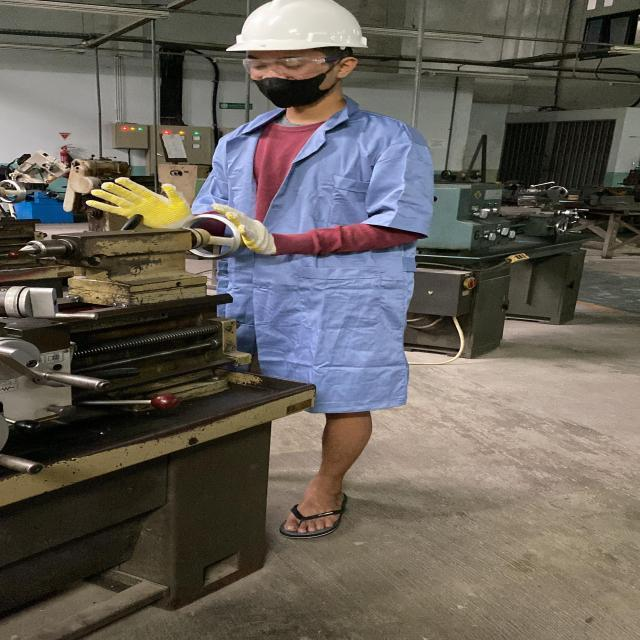glasses: (237, 56, 336, 78)
